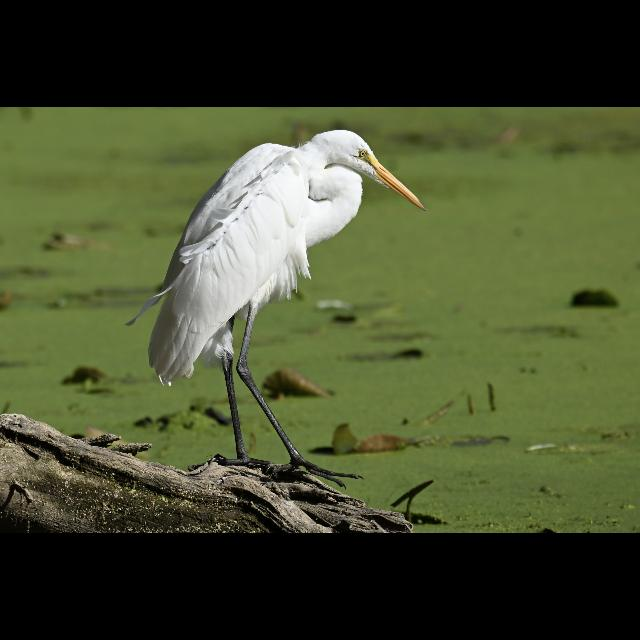egret: (141, 128, 427, 474)
